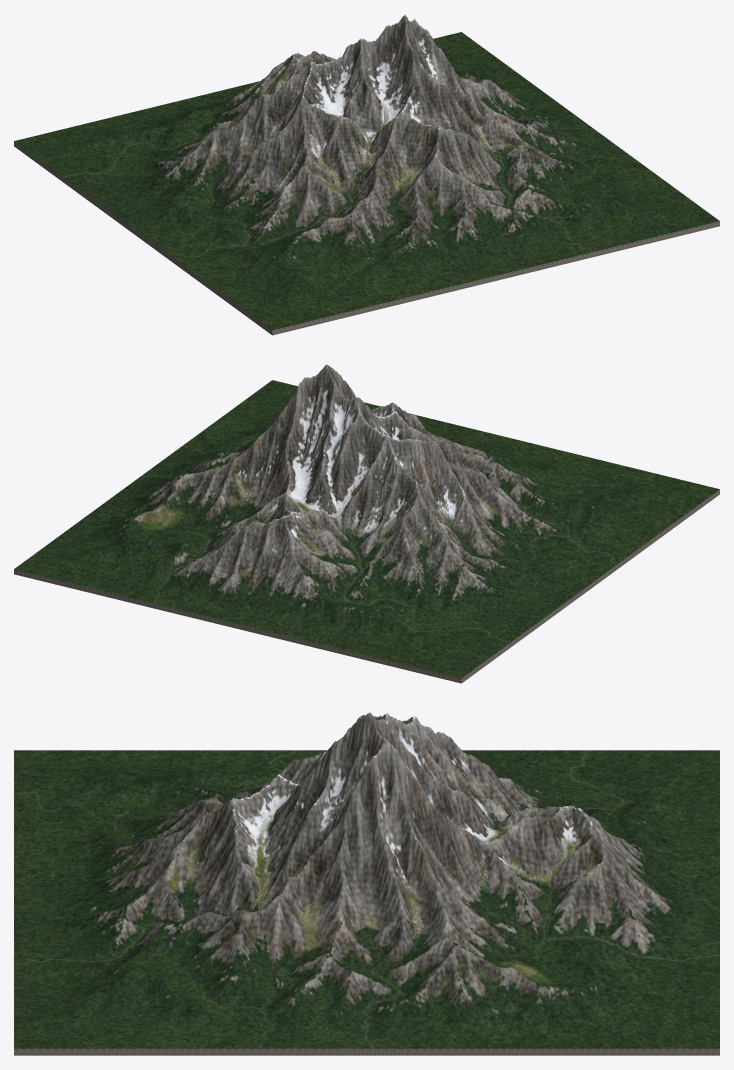
File: mountain-peak.glb
The picture shows the model from 3 angles, top to bottom: view 1: azimuth 30°, elevation 25°; view 2: azimuth 150°, elevation 25°; view 3: azimuth 270°, elevation 25°; orthographic projection. The views are drawn at different scales.
Visible parts, largest first — view 1: Alpine rock, snow, scree, turf and forest; view 2: Alpine rock, snow, scree, turf and forest; view 3: Alpine rock, snow, scree, turf and forest.
Boxes of the visible parts, box(x1,y1,x2,y2) form: Alpine rock, snow, scree, turf and forest: box(14, 15, 719, 335); Alpine rock, snow, scree, turf and forest: box(14, 364, 719, 683); Alpine rock, snow, scree, turf and forest: box(14, 712, 719, 1055).
Bounding box in the file's own units: 3600 × 1240 × 3600.
2 materials, 2 textured.
